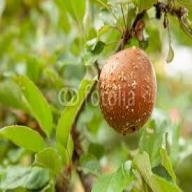apple: (96, 48, 156, 136)
